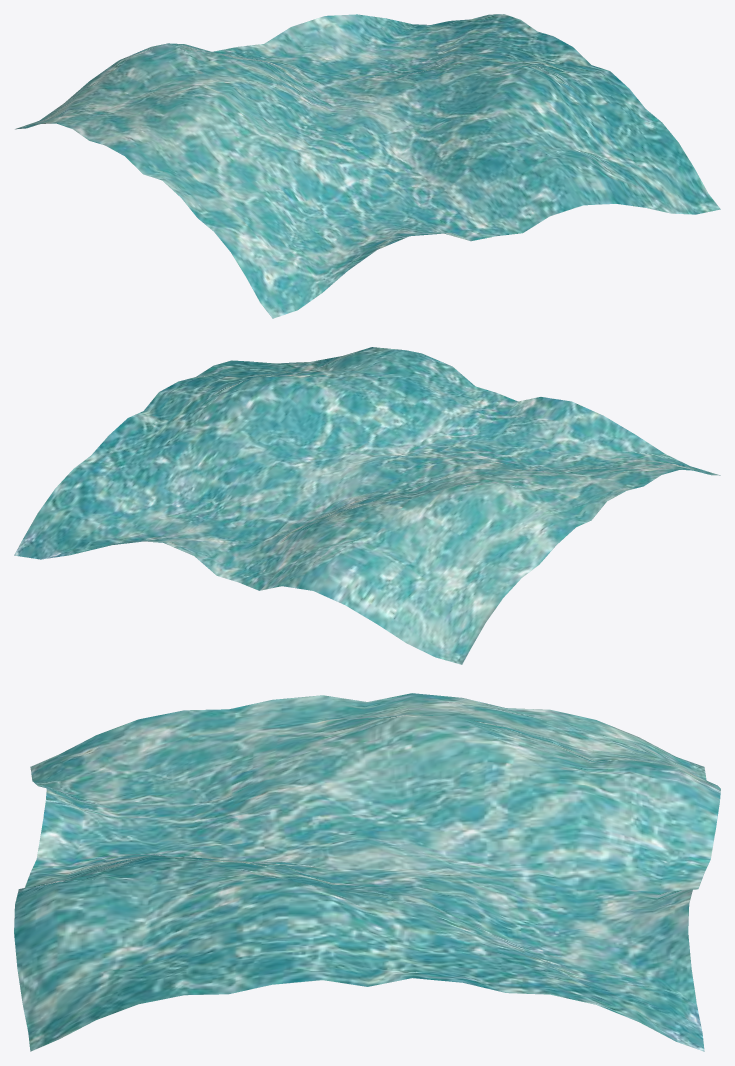
File: water_000152.obj
The picture shows the model from 3 angles, top to bottom: view 1: azimuth 30°, elevation 25°; view 2: azimuth 150°, elevation 25°; view 3: azimuth 270°, elevation 25°; orthographic projection. The views are drawn at different scales.
Visible parts, largest first — view 1: Plan.003_Plan.001; view 2: Plan.003_Plan.001; view 3: Plan.003_Plan.001.
Boxes of the visible parts, left/top/right/bottom form: Plan.003_Plan.001: left=15, top=14, right=720, bottom=318; Plan.003_Plan.001: left=14, top=347, right=720, bottom=664; Plan.003_Plan.001: left=14, top=693, right=720, bottom=1051.
Bounding box in the file's own units: 60800 × 9927 × 63265.
1 material, 1 textured.
